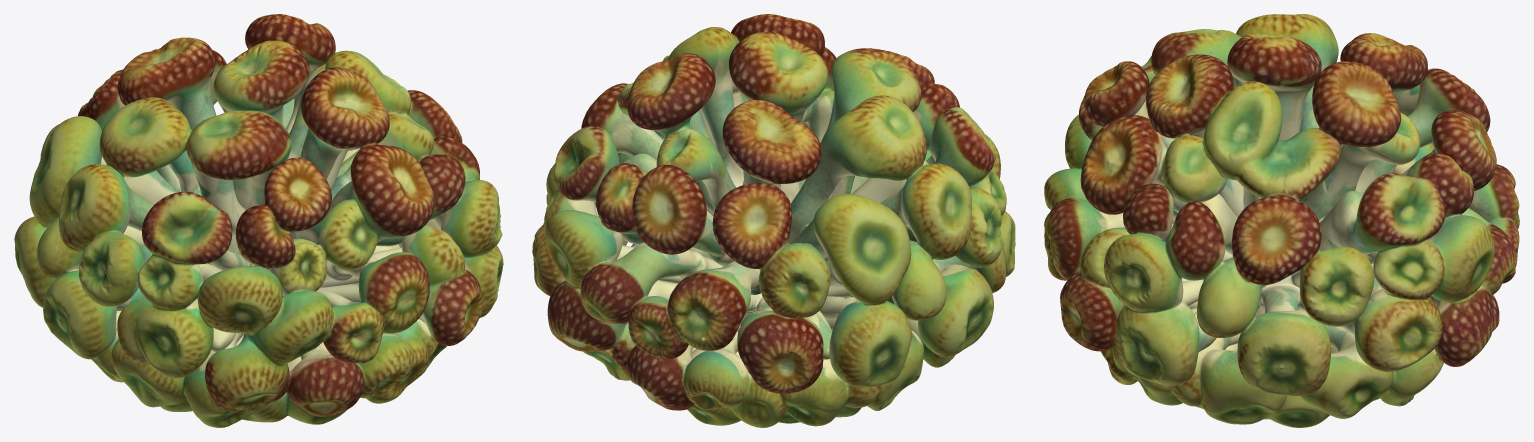
Rendered from photorealistic_coral_2.glb.
3 renders of one model, left to right at view 1: azimuth 30°, elevation 25°; view 2: azimuth 150°, elevation 25°; view 3: azimuth 270°, elevation 25°, orthographic. The views are drawn at different scales.
Size of the model in its own units: 1.9 by 1.47 by 1.83.
1 material, 1 textured.
